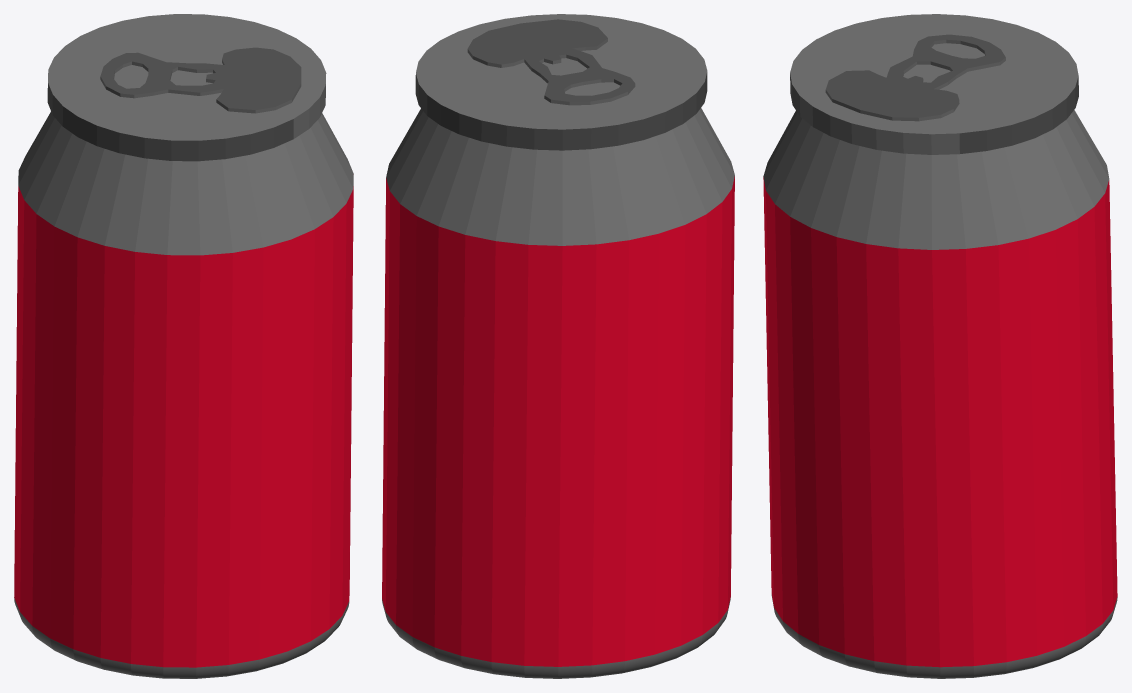
Rendered from Can.fbx.
3 views of the same model, side by side, from view 1: azimuth 30°, elevation 25°; view 2: azimuth 150°, elevation 25°; view 3: azimuth 270°, elevation 25° (orthographic).
Parts seen in each view (by area): view 1: Cylinder.001; view 2: Cylinder.001; view 3: Cylinder.001.
Part boxes in pixels (x1,y1,x2,y2): Cylinder.001: [14, 14, 353, 678]; Cylinder.001: [382, 14, 734, 678]; Cylinder.001: [763, 14, 1117, 678].
Bounding box in the file's own units: 121 × 212 × 125.
